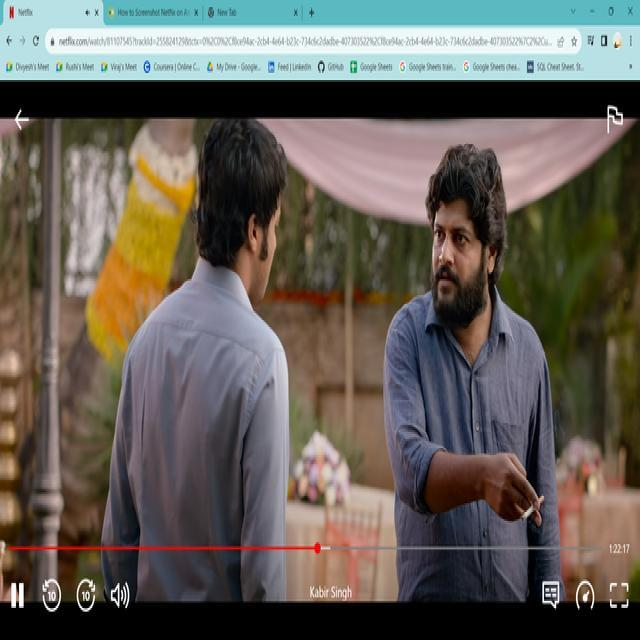smoking: (518, 492, 544, 530)
